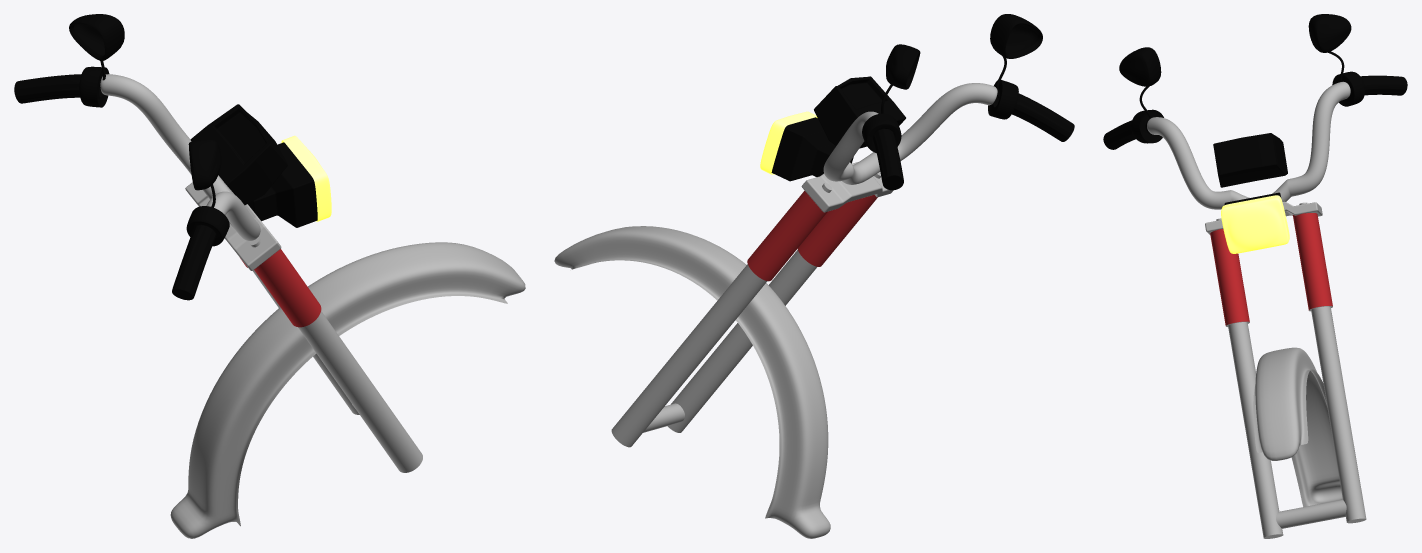
The model's file is handle_bar.fbx.
3 views of the same model, side by side, from view 1: azimuth 30°, elevation 25°; view 2: azimuth 150°, elevation 25°; view 3: azimuth 270°, elevation 25° (orthographic). The views are drawn at different scales.
Parts seen in each view (by area): view 1: Sphere.001; view 2: Sphere.001; view 3: Sphere.001.
Part boxes in pixels (<box>): Sphere.001: <box>14,14,525,538</box>; Sphere.001: <box>554,14,1074,538</box>; Sphere.001: <box>1103,14,1407,538</box>.
Size of the model in its own units: 98.2 by 113 by 69.49.
